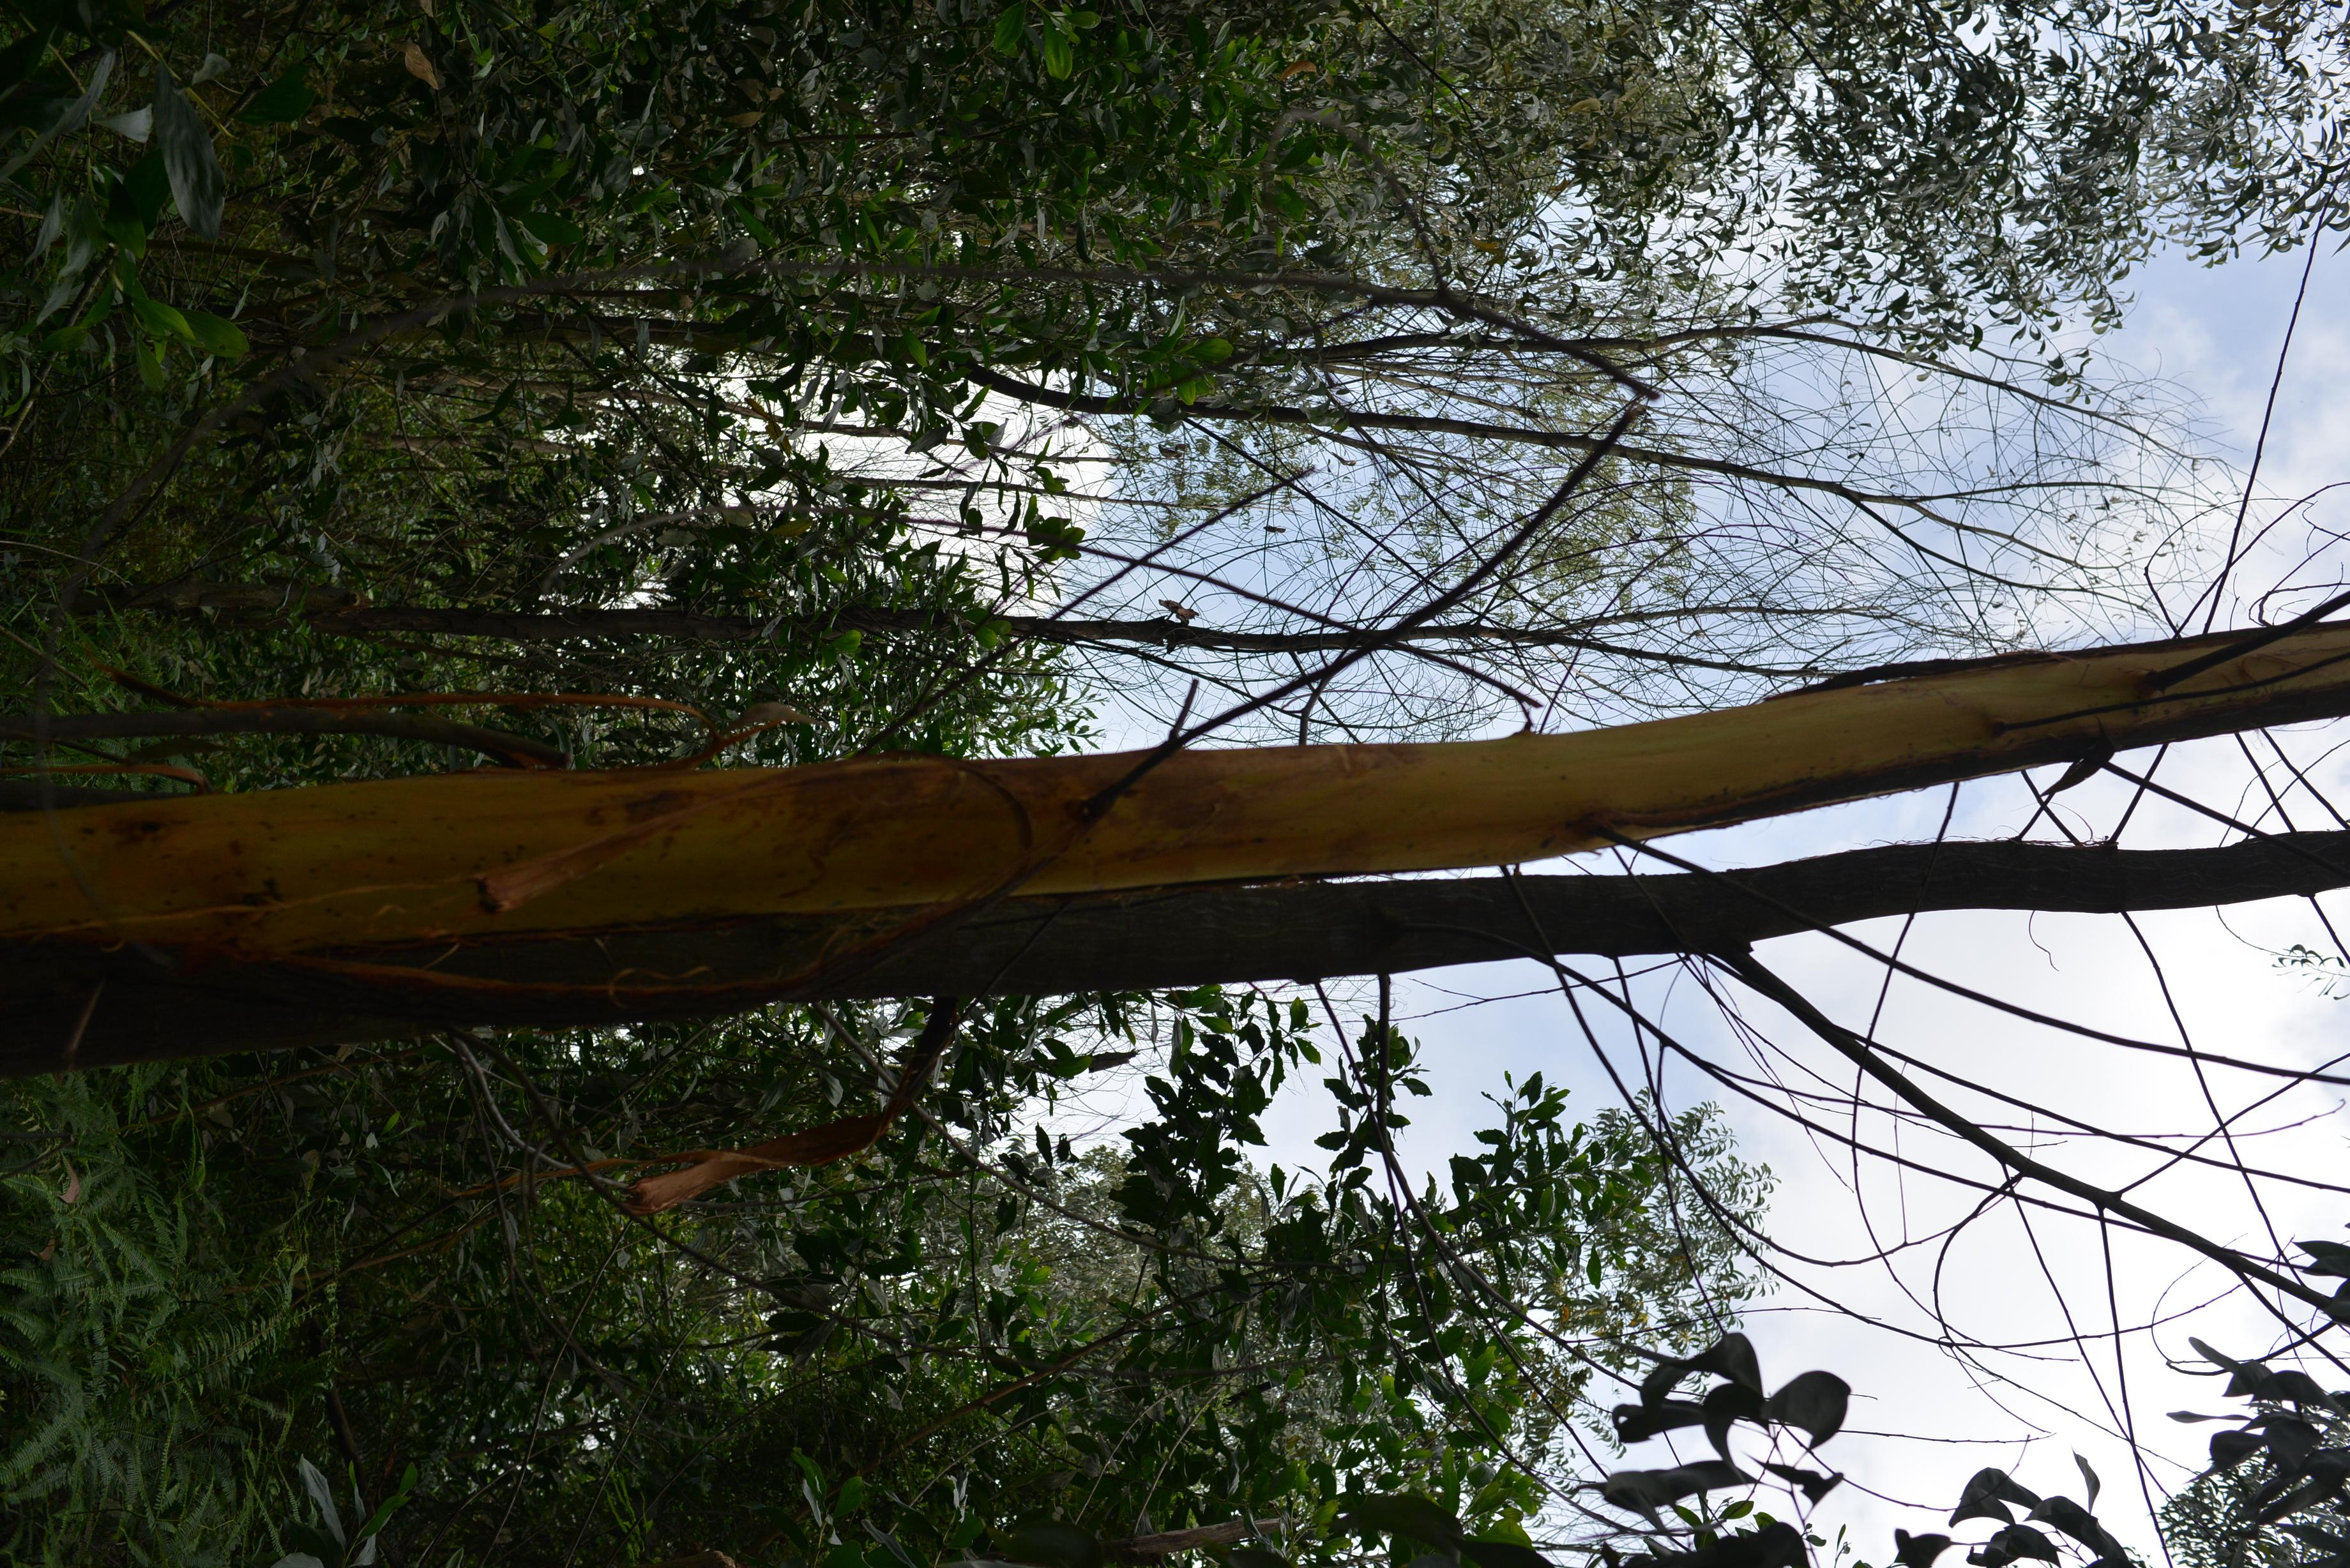Mammals Attack: (0, 626, 2350, 966)
